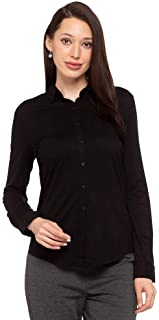shirt: (2, 83, 157, 281)
